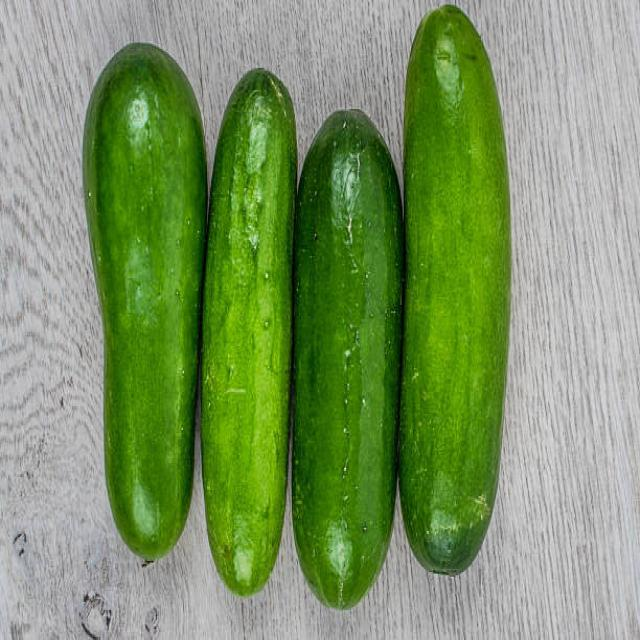cucumber: (82, 44, 206, 561), (400, 7, 510, 576), (286, 107, 405, 613), (200, 65, 294, 598)
